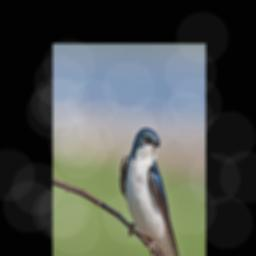Swallow: (119, 125, 190, 256)
